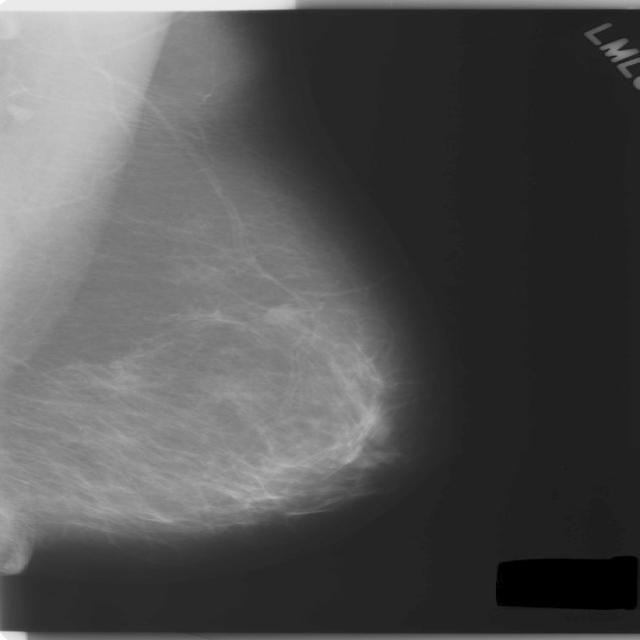tumour: (262, 302, 300, 323)
